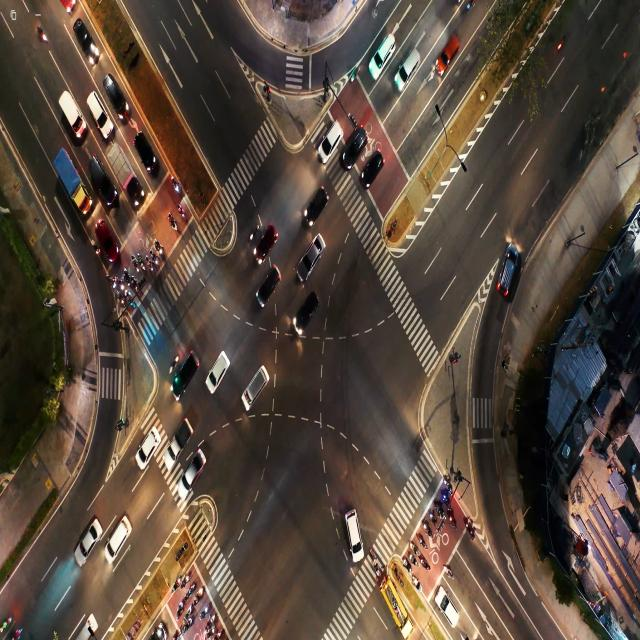bus: (388, 596, 399, 618)
motorcycle: (248, 220, 258, 241), (168, 211, 176, 237), (166, 357, 176, 373), (179, 203, 186, 223), (122, 268, 131, 282), (370, 555, 380, 567), (146, 254, 152, 273), (150, 248, 157, 264), (195, 588, 202, 604), (155, 242, 164, 253), (171, 176, 178, 190), (130, 274, 138, 286), (136, 250, 142, 264), (172, 579, 177, 592), (118, 284, 126, 292), (188, 586, 195, 595), (449, 516, 454, 528), (128, 292, 132, 306), (131, 256, 136, 266), (405, 563, 410, 573), (412, 544, 417, 554), (436, 502, 441, 512), (414, 578, 419, 586), (432, 515, 436, 525), (182, 581, 186, 590), (94, 243, 96, 253), (446, 566, 449, 572)
other: (61, 163, 75, 183), (116, 154, 125, 179), (67, 102, 76, 116)
truck: (291, 291, 320, 334), (344, 499, 363, 560), (372, 34, 398, 71), (495, 254, 522, 289), (306, 185, 328, 227), (399, 49, 419, 92), (297, 241, 323, 274), (359, 161, 384, 190), (319, 128, 342, 158), (265, 265, 280, 309), (439, 37, 459, 69), (344, 130, 366, 159), (179, 353, 200, 383), (248, 366, 263, 403), (93, 94, 104, 144), (186, 453, 203, 484), (112, 517, 126, 554), (165, 432, 180, 463), (260, 230, 276, 259), (108, 79, 124, 107), (80, 20, 91, 60), (137, 132, 151, 163), (80, 524, 91, 562), (211, 358, 224, 384), (145, 430, 156, 457), (442, 593, 454, 617), (95, 158, 104, 184), (101, 222, 108, 240)
